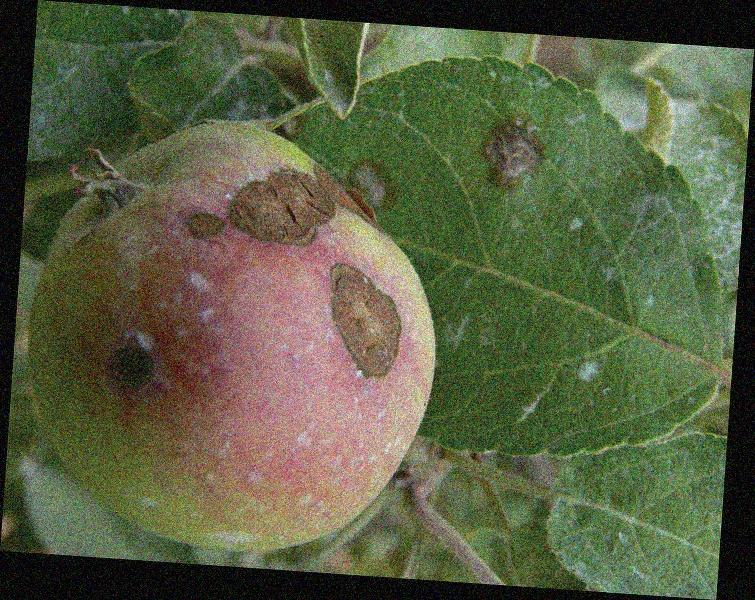rotten apple: (29, 127, 455, 555)
